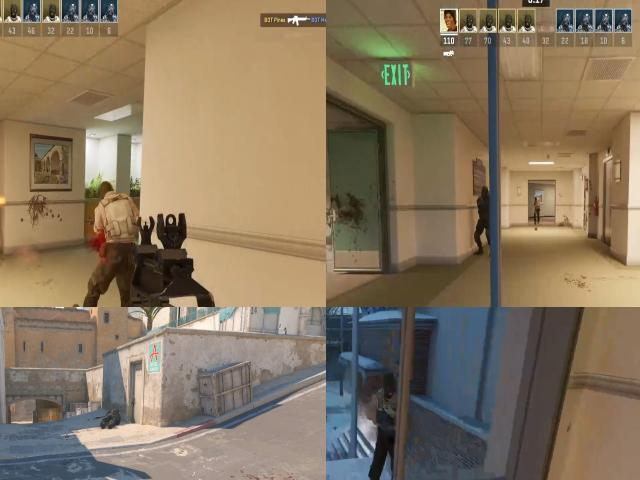CT: (476, 187, 490, 252)
Dead: (93, 171, 134, 298), (97, 407, 124, 431)
T: (371, 363, 401, 446), (532, 196, 541, 225)
T-Head: (376, 371, 401, 397), (532, 196, 540, 207)
